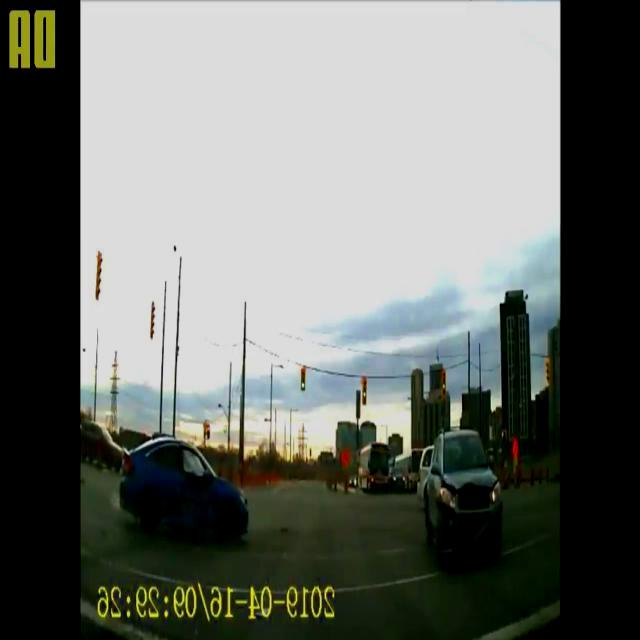non-accident: (418, 431, 502, 572), (358, 442, 428, 492)
